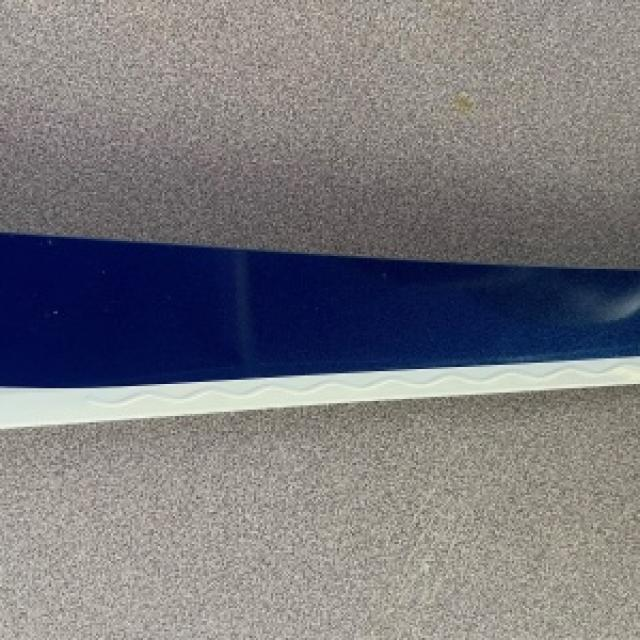healthy: (0, 384, 638, 638), (0, 230, 638, 427)
